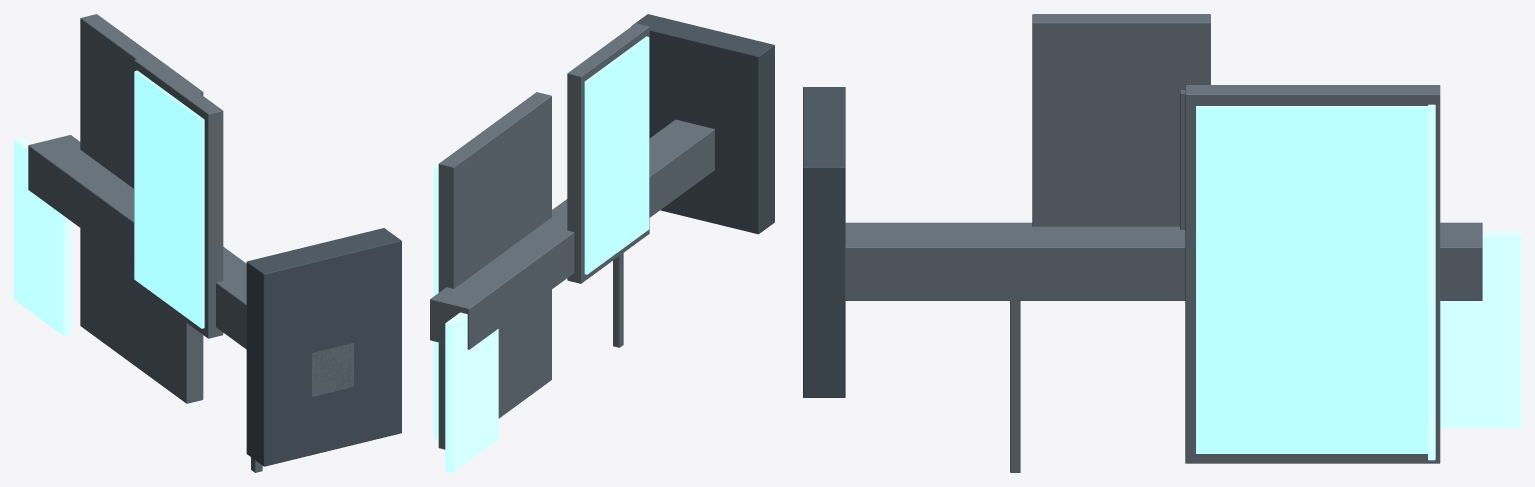
The model's file is mass_billboard_stack_rift_l.glb.
3 renders of one model, left to right at view 1: azimuth 30°, elevation 25°; view 2: azimuth 150°, elevation 25°; view 3: azimuth 270°, elevation 25°, orthographic. The views are drawn at different scales.
Parts seen in each view (by area): view 1: FlightKit_MassBillboard_rift_L; view 2: FlightKit_MassBillboard_rift_L; view 3: FlightKit_MassBillboard_rift_L.
Part boxes in pixels (bbox=[...]): FlightKit_MassBillboard_rift_L: bbox=[14, 14, 401, 472]; FlightKit_MassBillboard_rift_L: bbox=[430, 14, 774, 472]; FlightKit_MassBillboard_rift_L: bbox=[803, 14, 1520, 472].
Bounding box in the file's own units: 4.5 × 11.25 × 16.9.
